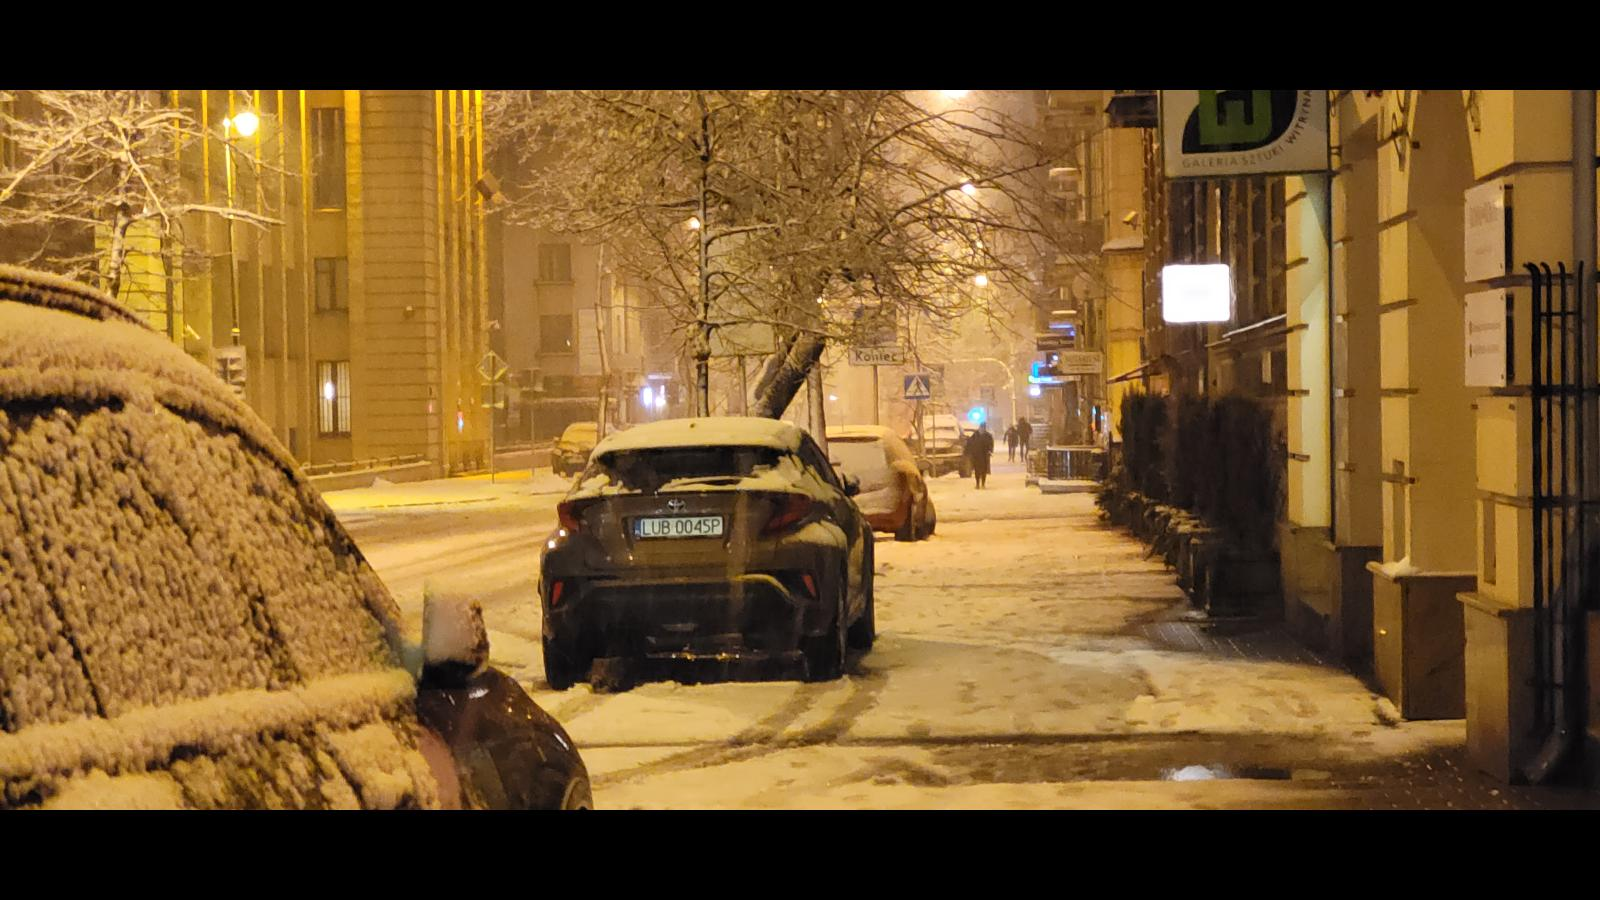plates: (634, 516, 724, 540)
